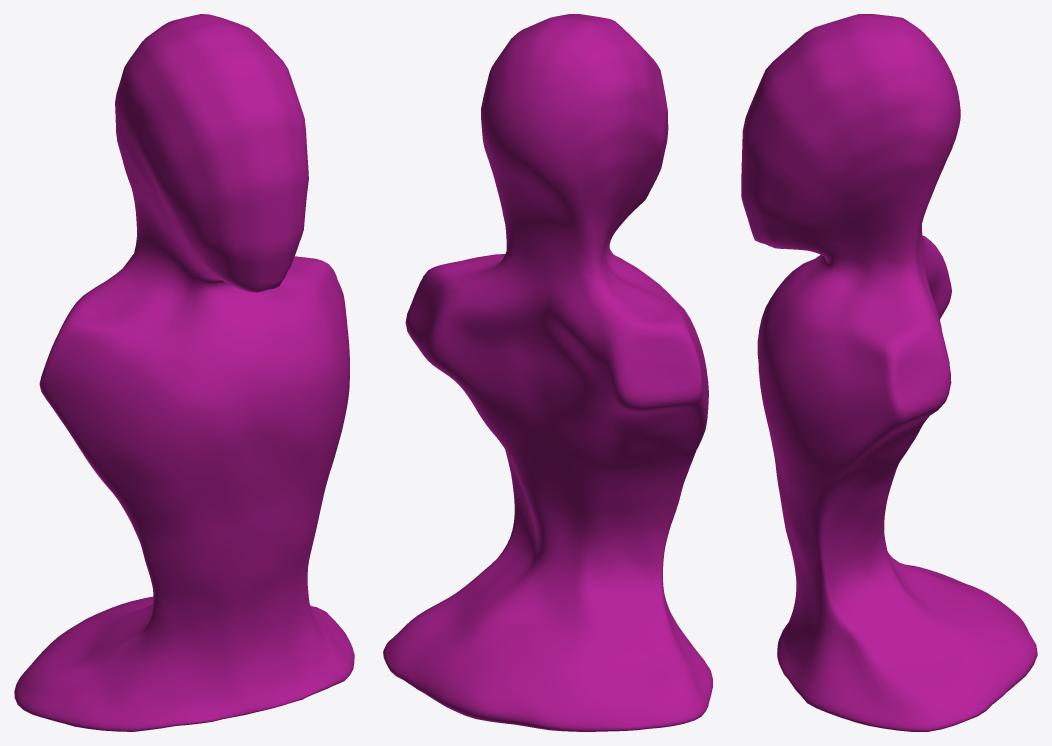
The model's file is Statue.obj.
3 views of the same model, side by side, from view 1: azimuth 30°, elevation 25°; view 2: azimuth 150°, elevation 25°; view 3: azimuth 270°, elevation 25° (orthographic). The views are drawn at different scales.
Visible parts, largest first — view 1: Group1; view 2: Group1; view 3: Group1.
Boxes of the visible parts, x1=… form: Group1: x1=14, y1=14, x2=354, y2=731; Group1: x1=383, y1=14, x2=712, y2=731; Group1: x1=741, y1=14, x2=1037, y2=731.
Size of the model in its own units: 1.67 by 3.33 by 1.41.
